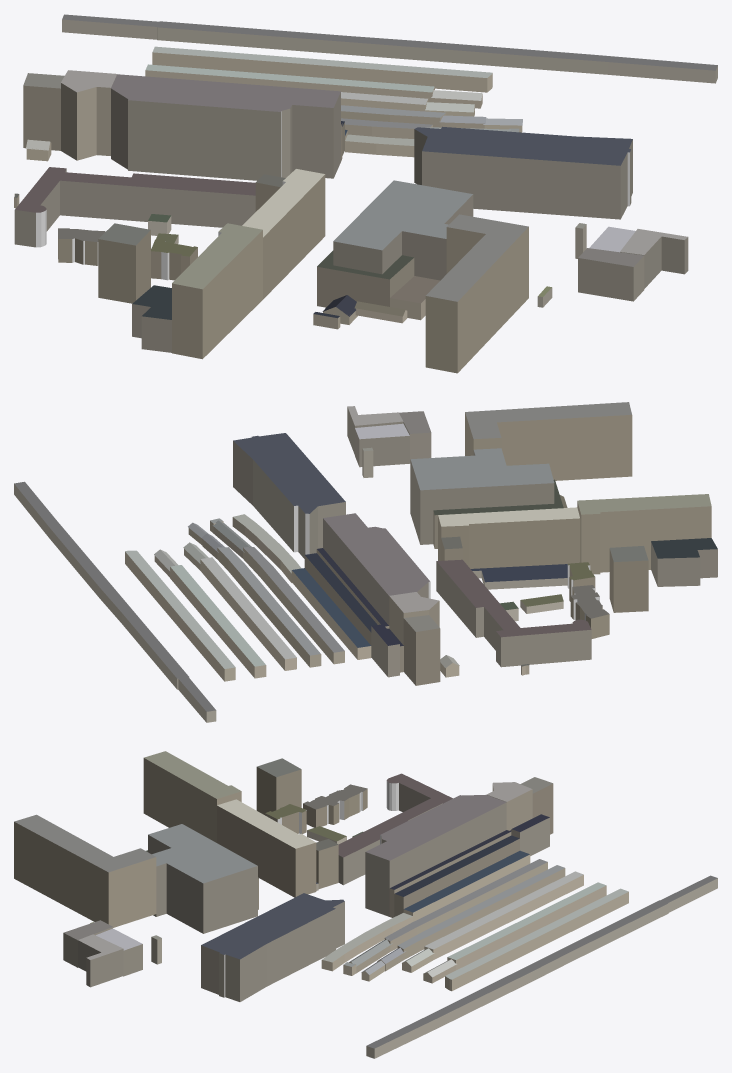
3 views of the same model, one above another, from view 1: azimuth 30°, elevation 25°; view 2: azimuth 150°, elevation 25°; view 3: azimuth 270°, elevation 25° (orthographic). The views are drawn at different scales.
Parts seen in each view (by area): view 1: tuile; view 2: tuile; view 3: tuile.
Part boxes in pixels (left/top/right/bottom): tuile: left=14, top=14, right=717, bottom=373; tuile: left=14, top=402, right=717, bottom=722; tuile: left=14, top=751, right=717, bottom=1058.
Size of the model in its own units: 347 by 40.4 by 382.
